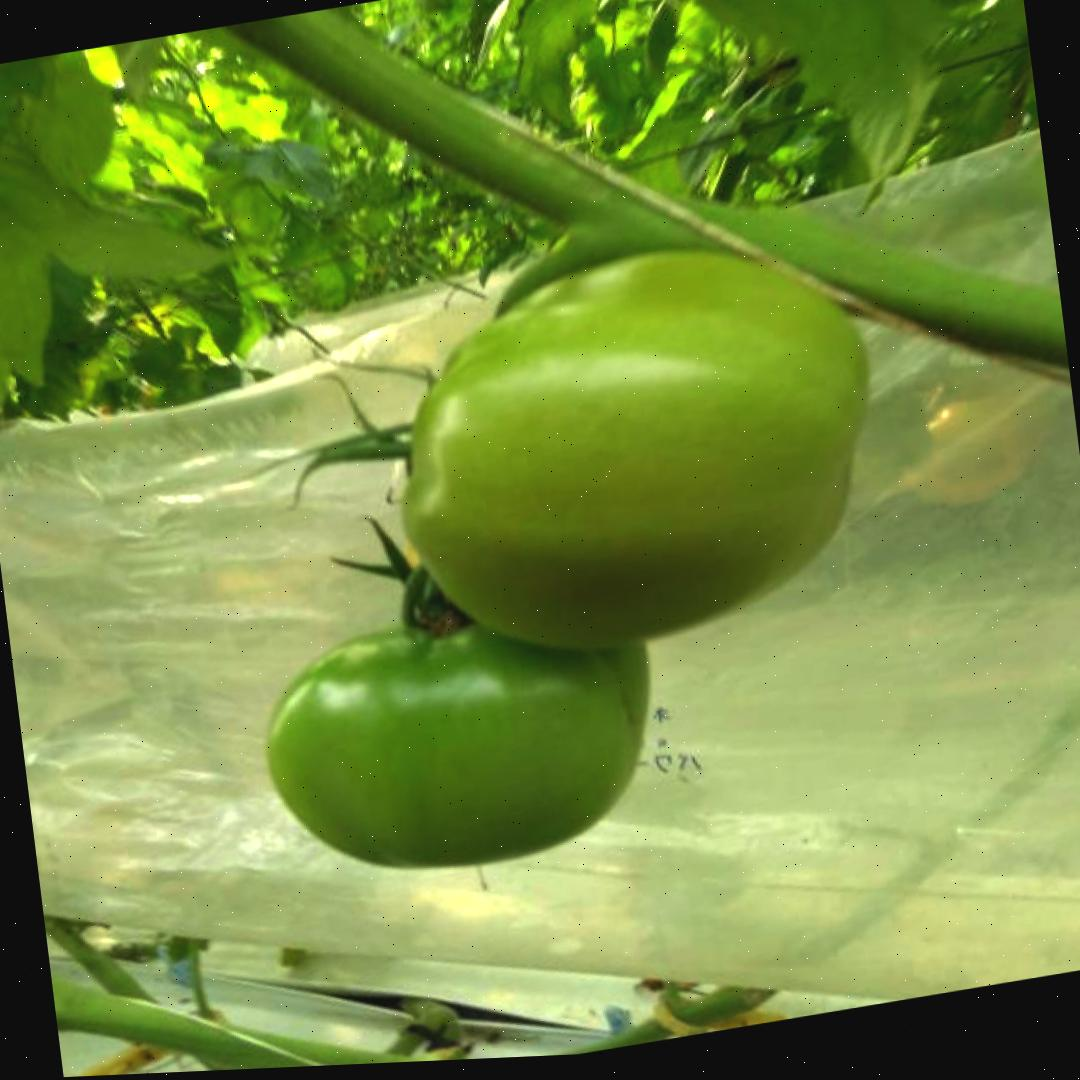mentah: (372, 215, 904, 682), (250, 579, 676, 903)
